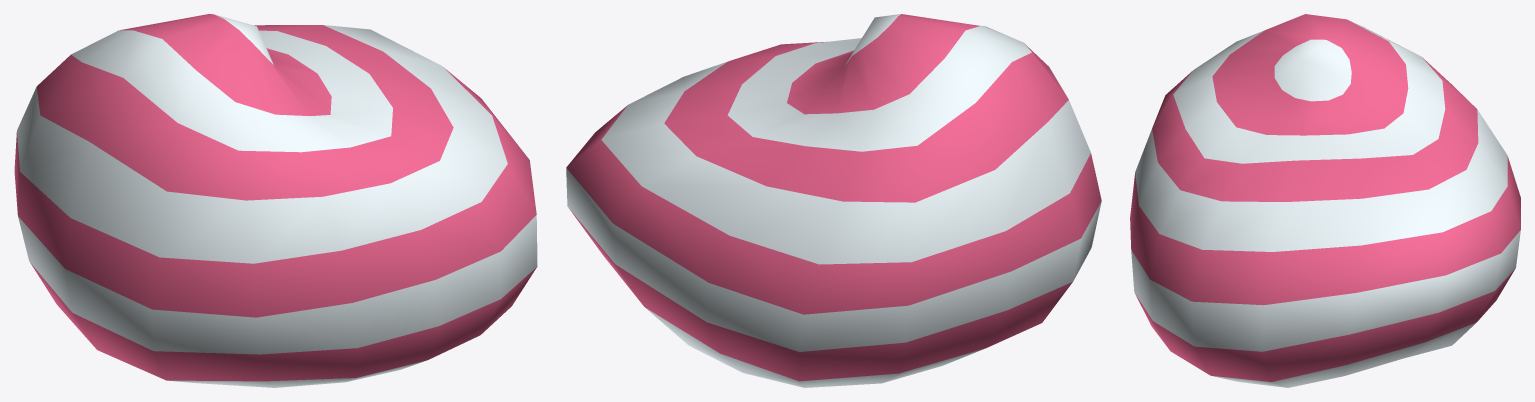
Rendered from candy_assets8.fbx.
3 renders of one model, left to right at view 1: azimuth 30°, elevation 25°; view 2: azimuth 150°, elevation 25°; view 3: azimuth 270°, elevation 25°, orthographic. The views are drawn at different scales.
Visible parts, largest first — view 1: candy_assets8; view 2: candy_assets8; view 3: candy_assets8.
Boxes of the visible parts, x1,y1,x2,y2 form: candy_assets8: (14,14,537,387); candy_assets8: (566,14,1101,387); candy_assets8: (1130,14,1520,387).
Size of the model in its own units: 625 by 429 by 552.
1 material, 1 textured.
